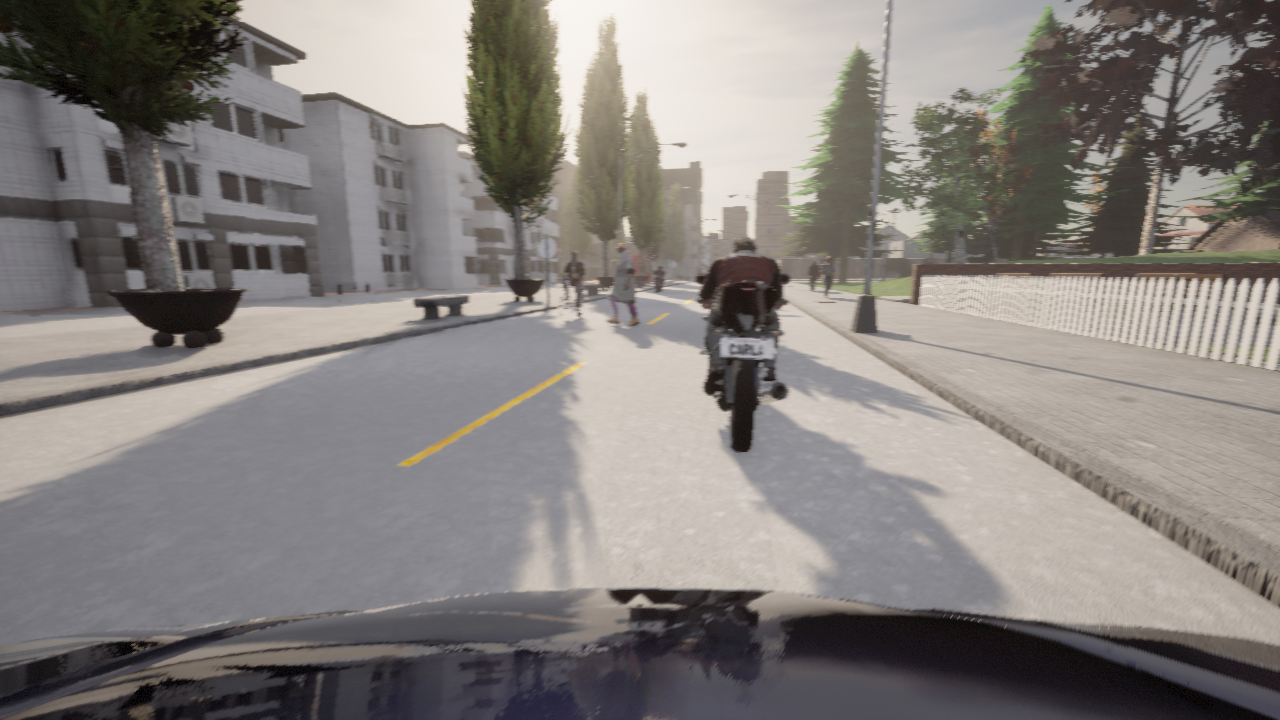cyclist: (0, 588, 1279, 719), (695, 273, 789, 452), (561, 276, 583, 322), (654, 274, 664, 291)
pedestrian: (607, 242, 638, 326), (820, 257, 835, 297), (808, 261, 819, 291), (582, 275, 586, 289)
